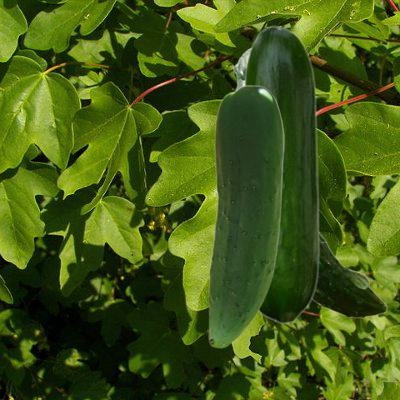cucumber: (233, 48, 386, 317), (244, 25, 319, 323), (208, 85, 283, 347)
